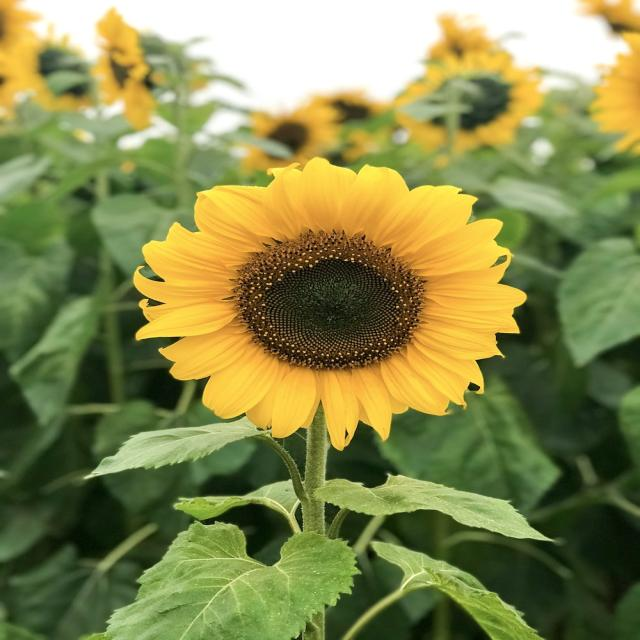sunflower: (131, 149, 531, 453), (388, 43, 550, 163), (86, 12, 182, 151), (3, 12, 109, 118), (569, 40, 640, 165), (237, 96, 346, 175), (419, 17, 499, 77), (569, 0, 640, 55), (310, 82, 388, 127)
